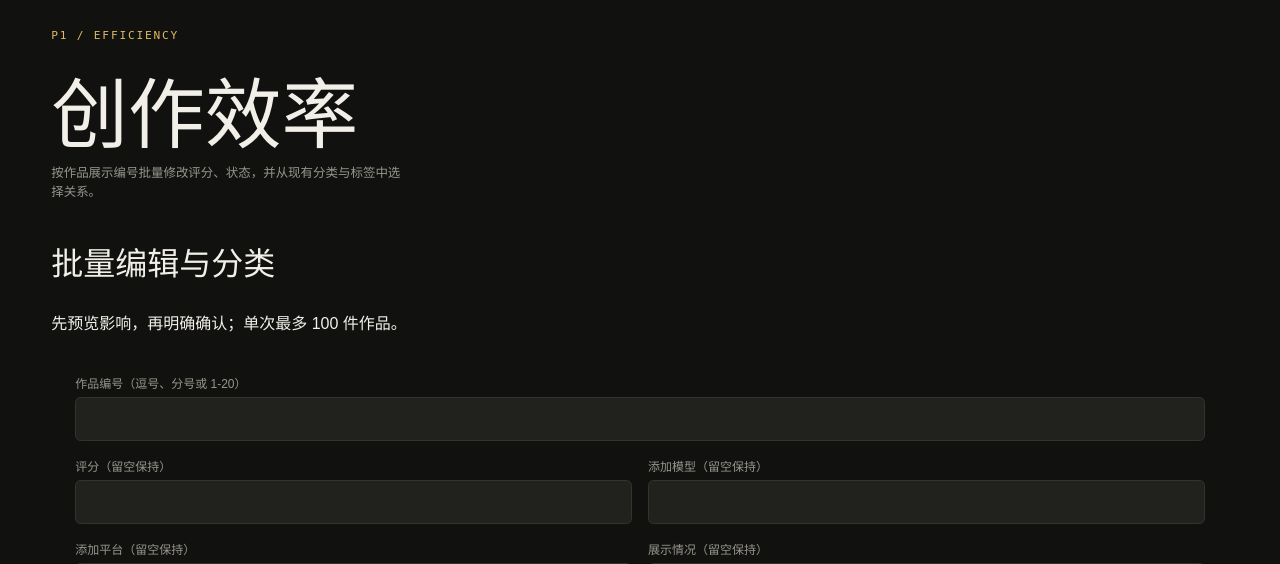
Test: P1 创作效率页 › 按可见作品编号解析范围并批量设置评分
The image size is (1280, 564).
Type "1-2；4" into the field labelled "作品编号（逗号、分号或 1-20）" at (640, 419), box [75, 397, 1205, 441]
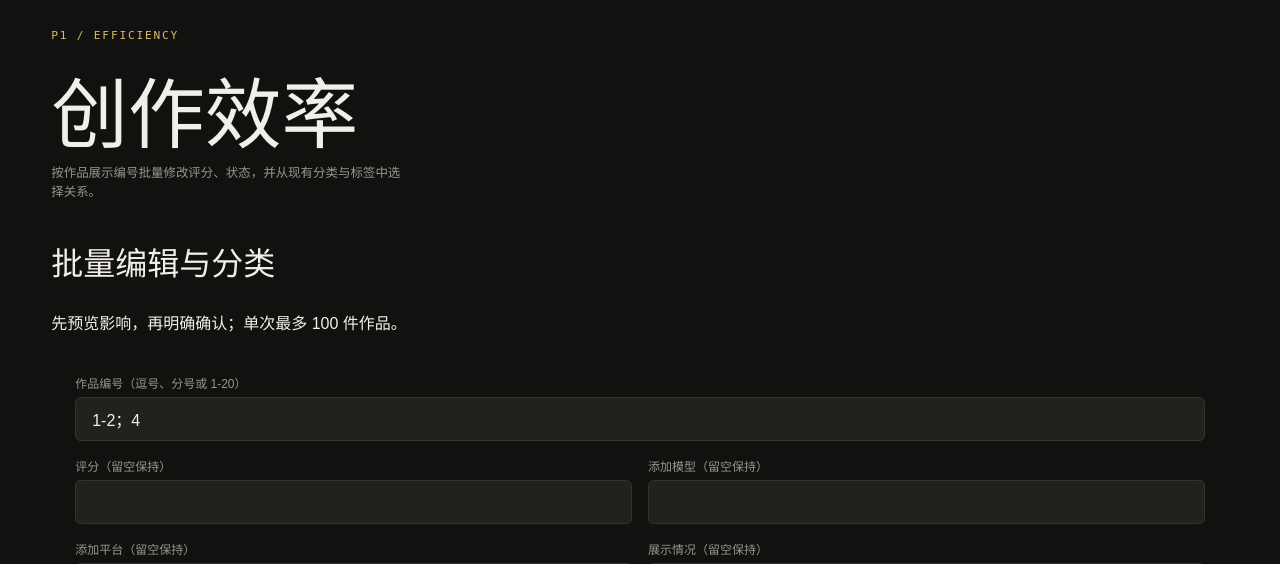
Type "5" into the number field labelled "评分（留空保持）" at (354, 502), box [75, 480, 632, 524]
(page scrolled)
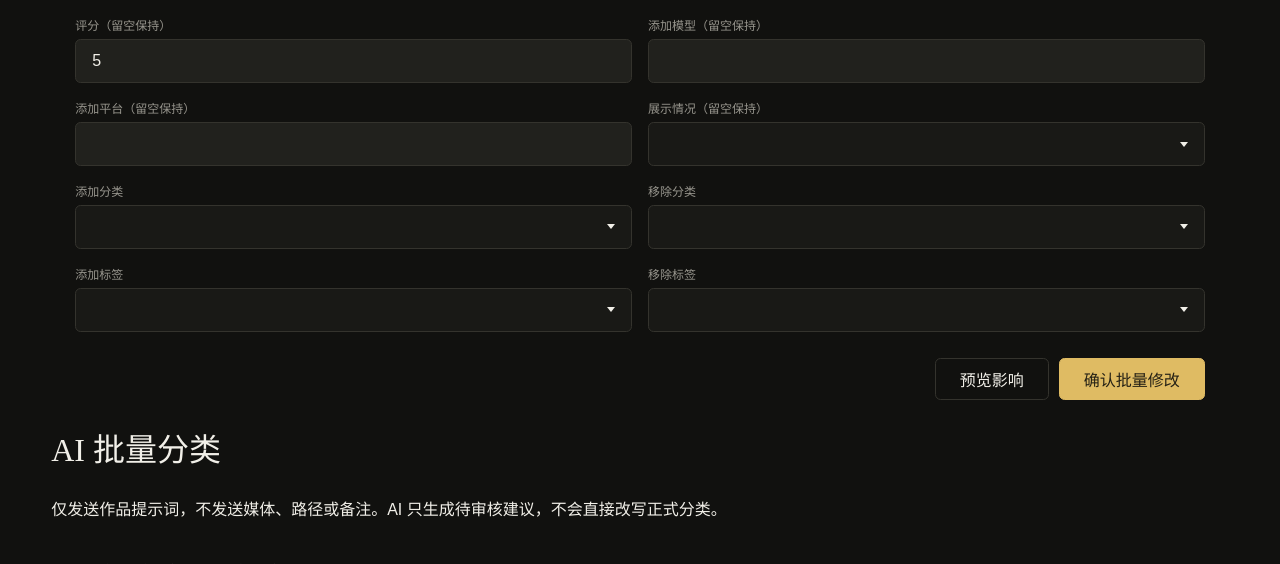
Click the button "确认批量修改" at (1132, 379), box [1059, 358, 1205, 400]
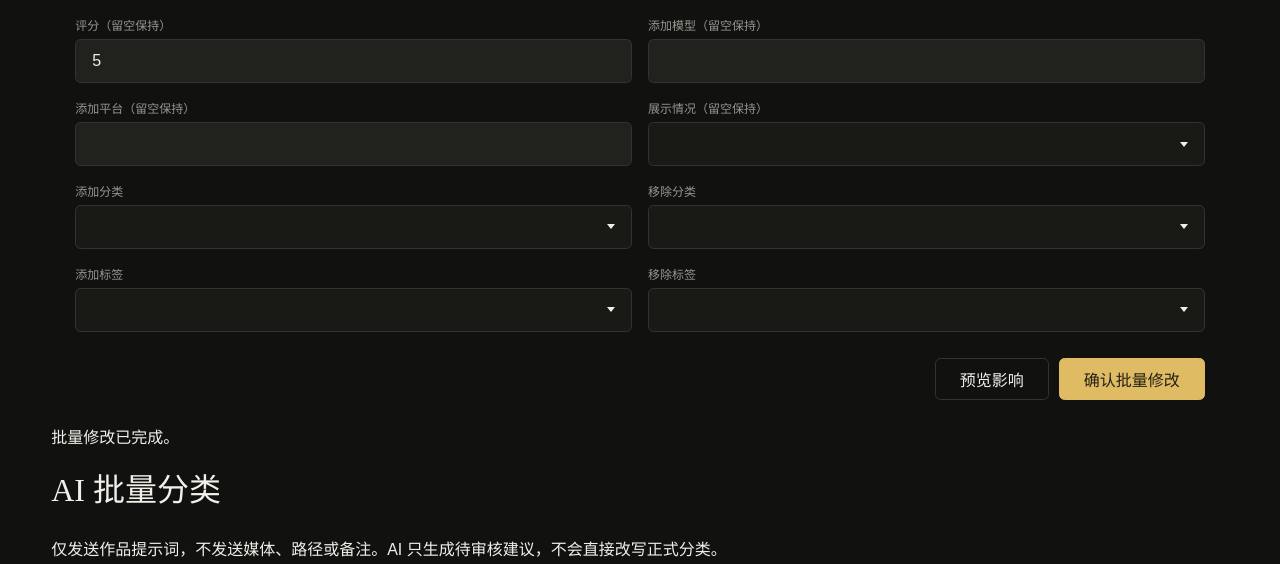
expect the message shows "批量修改已完成": met, box [51, 429, 179, 446]
